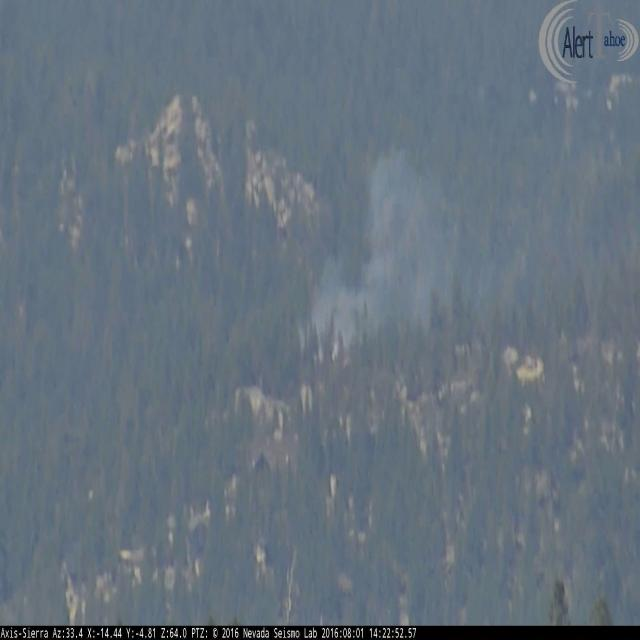smoke: (299, 156, 434, 362)
